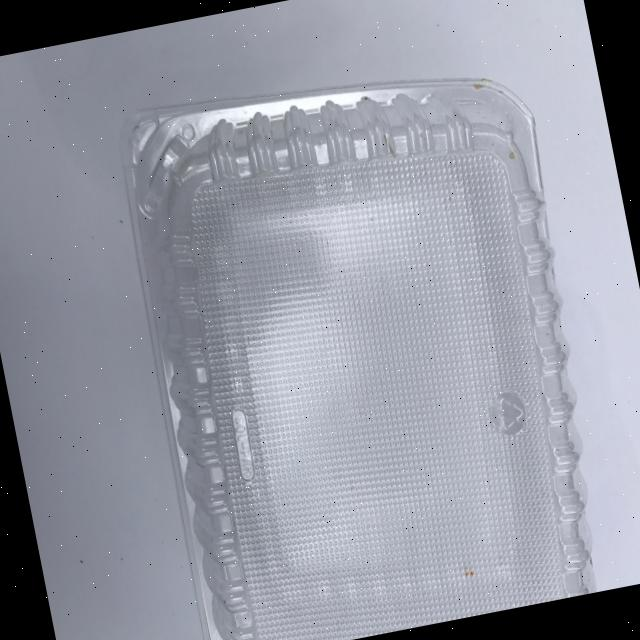plastic: (110, 38, 625, 640)
